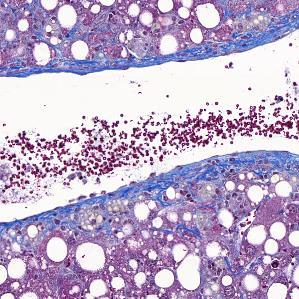fibrosis: (168, 158, 294, 196), (51, 204, 150, 242)
